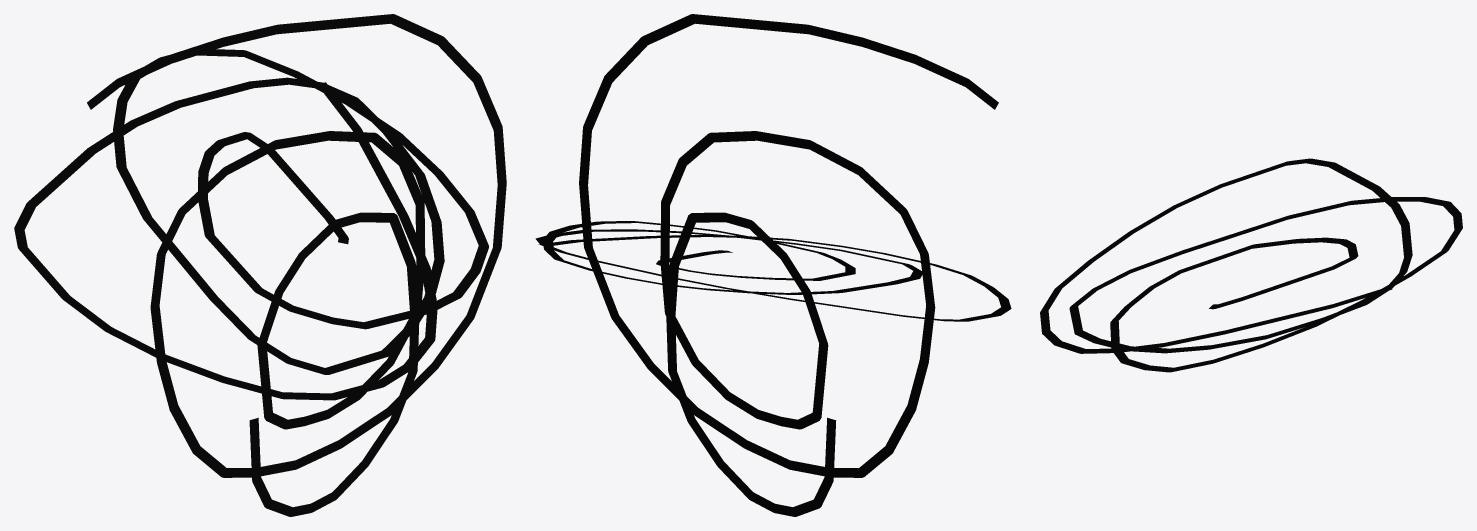
The picture shows the model from 3 angles, left to right: view 1: azimuth 30°, elevation 25°; view 2: azimuth 150°, elevation 25°; view 3: azimuth 270°, elevation 25°; orthographic projection. The views are drawn at different scales.
Parts seen in each view (by area): view 1: stroke0, stroke; view 2: stroke, stroke0; view 3: stroke0.
Part boxes in pixels (<box>): stroke0: <box>14,49,488,400</box>; stroke: <box>87,14,506,516</box>; stroke: <box>579,14,998,516</box>; stroke0: <box>535,221,1011,321</box>; stroke0: <box>1040,158,1462,372</box>.
Bounding box in the file's own units: 48.48 × 52.51 × 46.81.
2 materials, 2 textured.
